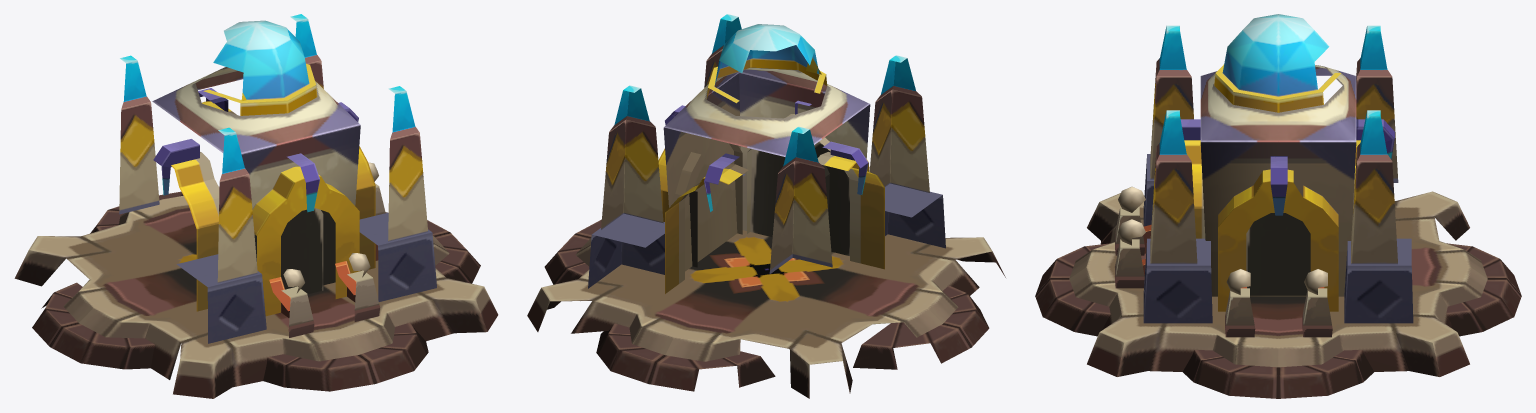
Rendered from B_Cityhall05.fbx.
The picture shows the model from 3 angles, left to right: view 1: azimuth 30°, elevation 25°; view 2: azimuth 150°, elevation 25°; view 3: azimuth 270°, elevation 25°; orthographic projection. The views are drawn at different scales.
Visible parts, largest first — view 1: B_Cityhall05_01; view 2: B_Cityhall05_01; view 3: B_Cityhall05_01.
Boxes of the visible parts, left/top/right/bottom form: B_Cityhall05_01: left=14, top=14, right=498, bottom=398; B_Cityhall05_01: left=527, top=14, right=1005, bottom=398; B_Cityhall05_01: left=1035, top=14, right=1521, bottom=398.
Size of the model in its own units: 9.88 by 6.24 by 9.88.
Materials: 1 (1 with a texture image).
